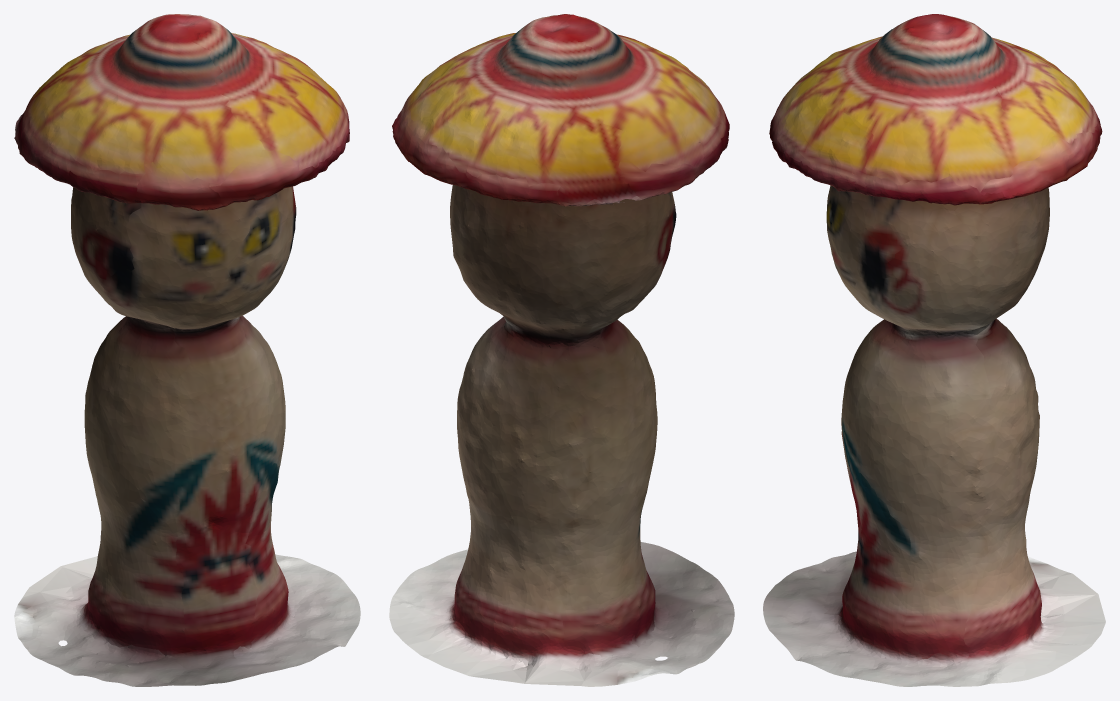
Rendered from kokeshiS005.glb.
3 renders of one model, left to right at view 1: azimuth 30°, elevation 25°; view 2: azimuth 150°, elevation 25°; view 3: azimuth 270°, elevation 25°, orthographic.
Visible parts, largest first — view 1: mesh; view 2: mesh; view 3: mesh.
Part boxes in pixels (x1=…): mesh: x1=14, y1=14, x2=360, y2=686; mesh: x1=389, y1=14, x2=734, y2=686; mesh: x1=763, y1=14, x2=1105, y2=686.
Bounding box in the file's own units: 0.0634 × 0.1211 × 0.0628.
1 material, 1 textured.
